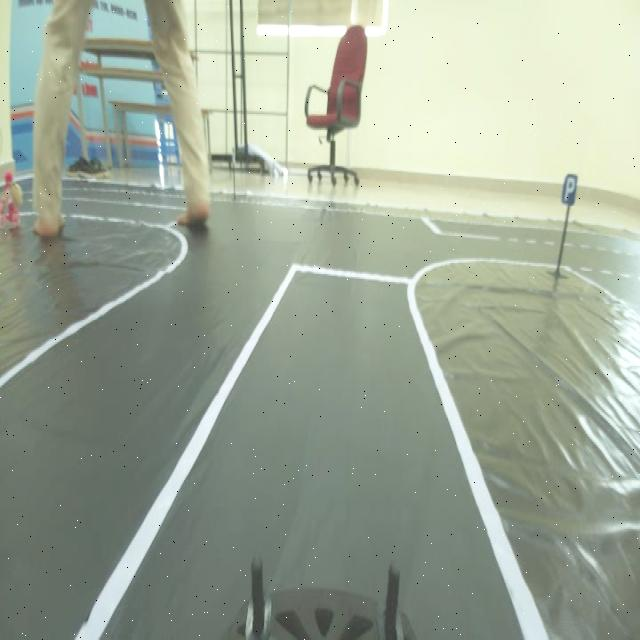parking: (558, 168, 582, 204)
